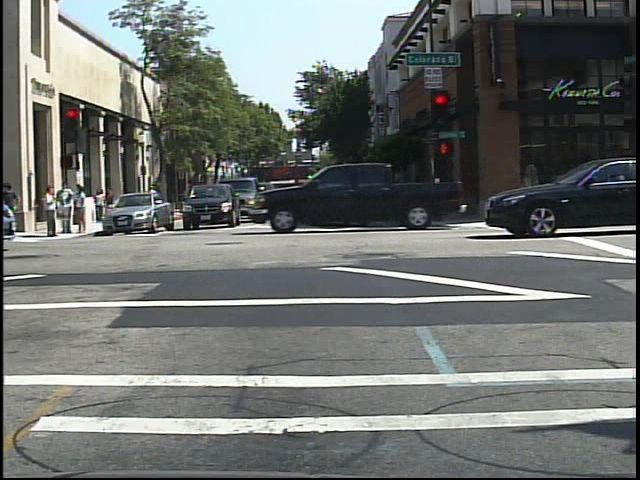person: (146, 180, 165, 219), (93, 188, 108, 225), (147, 180, 162, 213)
